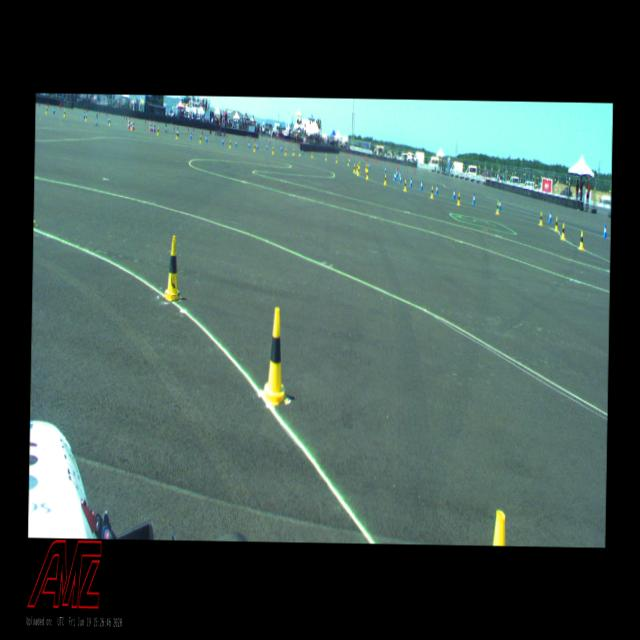blue_cone: (603, 224, 606, 237), (498, 199, 501, 210), (409, 177, 412, 186), (549, 210, 551, 222), (452, 188, 454, 199), (472, 193, 474, 204), (399, 175, 402, 182), (436, 184, 438, 194), (420, 180, 422, 190), (234, 140, 237, 146), (266, 142, 268, 150), (205, 134, 207, 142), (190, 131, 192, 139), (394, 172, 396, 180), (393, 172, 395, 180), (384, 166, 386, 173), (396, 169, 398, 176), (280, 146, 282, 152), (256, 142, 257, 150), (53, 106, 54, 114), (108, 116, 109, 124), (248, 141, 249, 148), (84, 111, 85, 118), (399, 171, 400, 178), (349, 158, 350, 164), (368, 162, 369, 168), (302, 148, 303, 154), (222, 138, 222, 144), (152, 125, 152, 132)
large_orange_cone: (128, 116, 130, 129), (132, 118, 134, 130), (153, 120, 155, 131), (149, 120, 151, 130)
yellow_cone: (262, 307, 290, 404), (164, 236, 180, 300), (579, 230, 583, 248), (560, 222, 564, 238), (554, 217, 558, 230), (430, 185, 433, 198), (456, 192, 459, 205), (540, 212, 542, 225), (496, 201, 498, 214), (175, 131, 178, 138), (404, 180, 406, 190), (384, 174, 386, 184), (199, 134, 201, 143), (356, 163, 358, 172), (352, 164, 354, 172), (228, 140, 230, 148), (298, 148, 300, 156), (157, 126, 159, 134), (272, 146, 274, 154), (366, 170, 368, 178), (356, 166, 358, 174), (292, 148, 294, 155), (63, 109, 65, 116), (366, 164, 368, 171), (364, 164, 366, 171), (284, 148, 286, 154), (253, 144, 255, 150), (130, 122, 132, 128), (108, 118, 110, 124), (45, 106, 47, 112), (336, 156, 337, 163), (358, 161, 359, 168), (85, 114, 86, 120), (312, 150, 312, 158), (326, 154, 326, 160)
